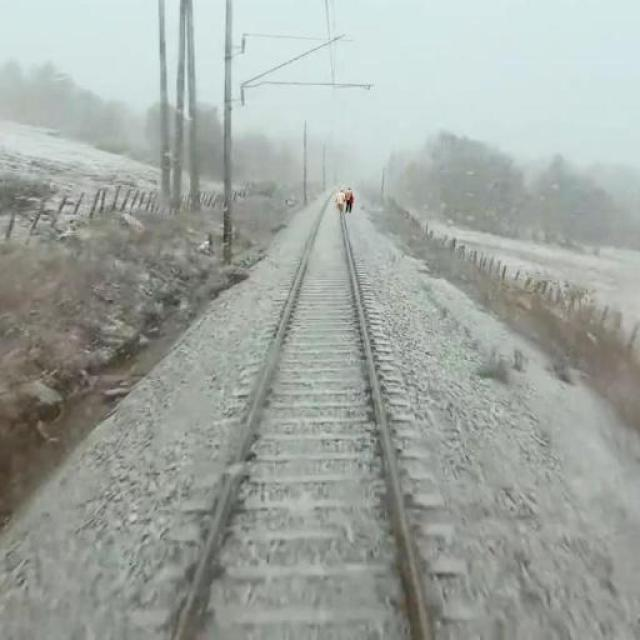people: (332, 185, 356, 219)
